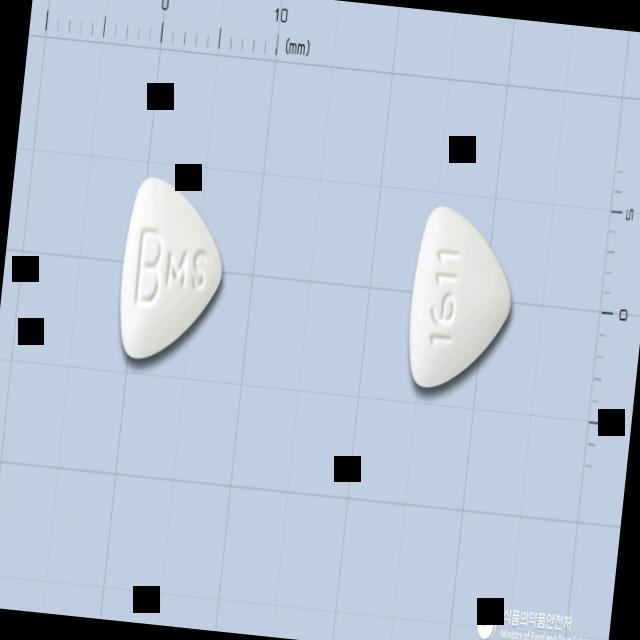Amocla Duo: (402, 202, 522, 398), (115, 175, 232, 368)
